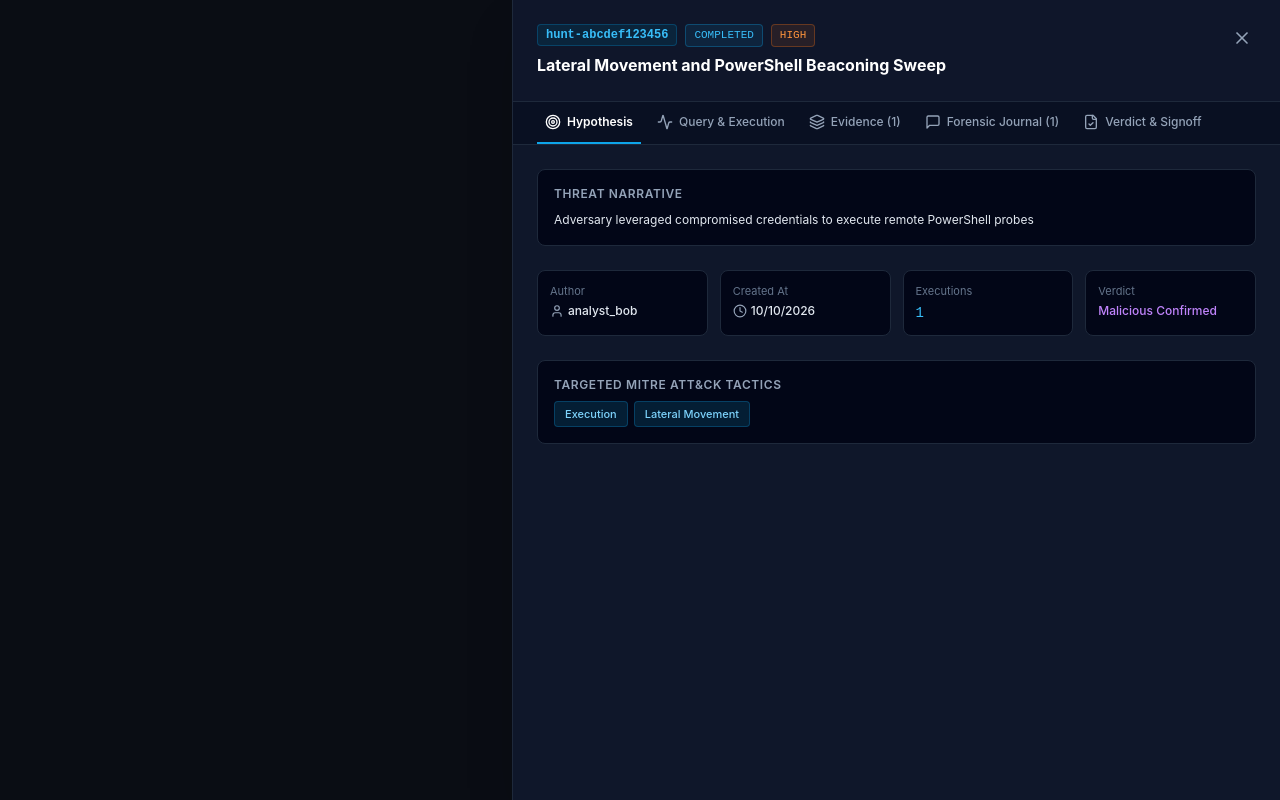
Test: Module 3.11 Threat Hunting Frontend Suite › renders HuntDossierDrawer tabs and evidence list
This screenshot has width=1280, height=800.
Expected: the text "hunt-abcdef123456" is shown, [537,24,677,46]
Expected: the text "Adversary leveraged compromised credentials" is shown, [554,212,1034,226]
Switch to Evidence Tab
Click the button "Evidence (1)" at (855, 122), box [801,102,909,144]
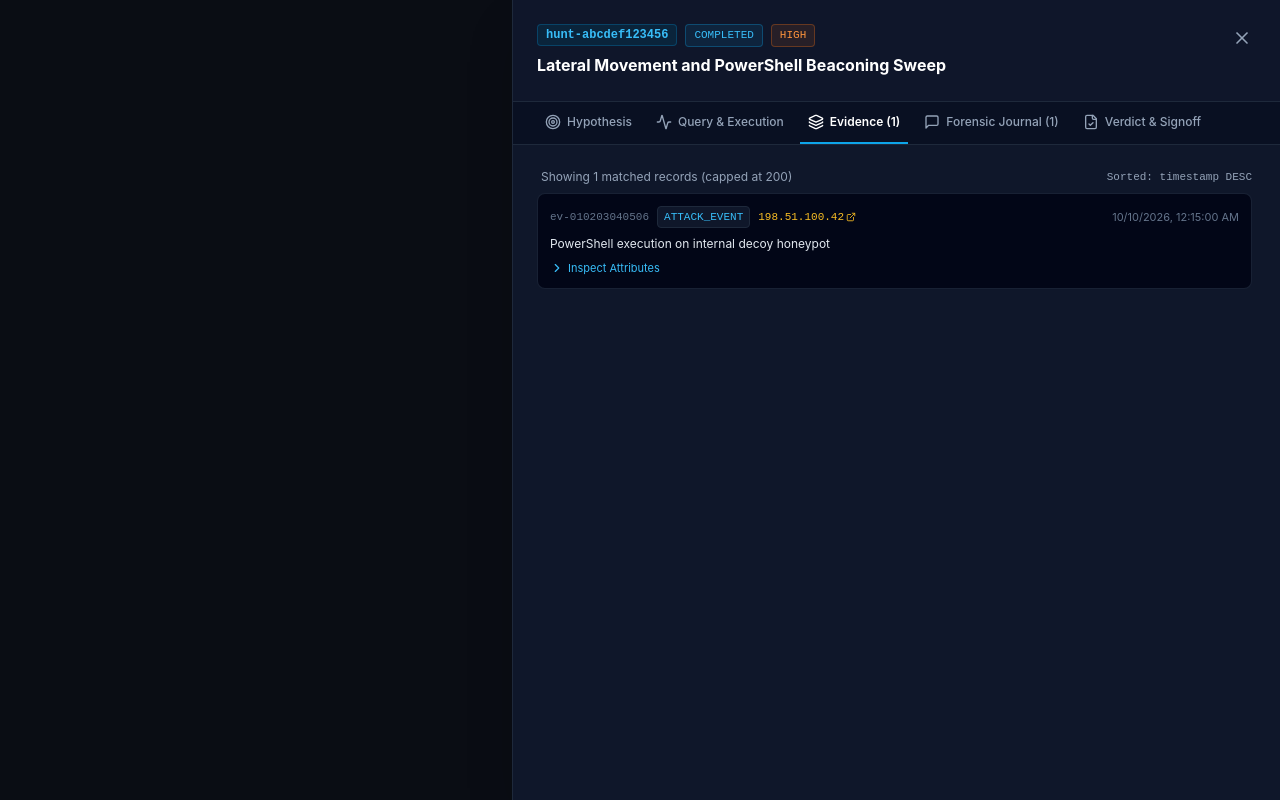
Expected: the text "PowerShell execution on internal decoy honeypot" is shown, [550,236,830,250]
Expected: the text "Inspect Attributes" is shown, [568,260,660,276]
